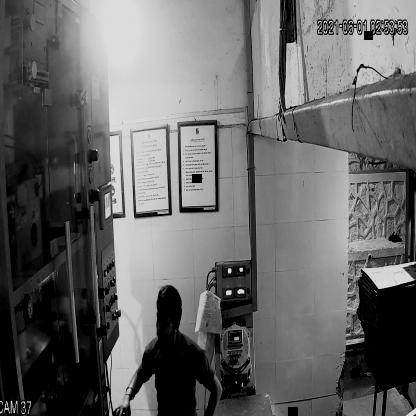no_goggles: (150, 308, 184, 333)
